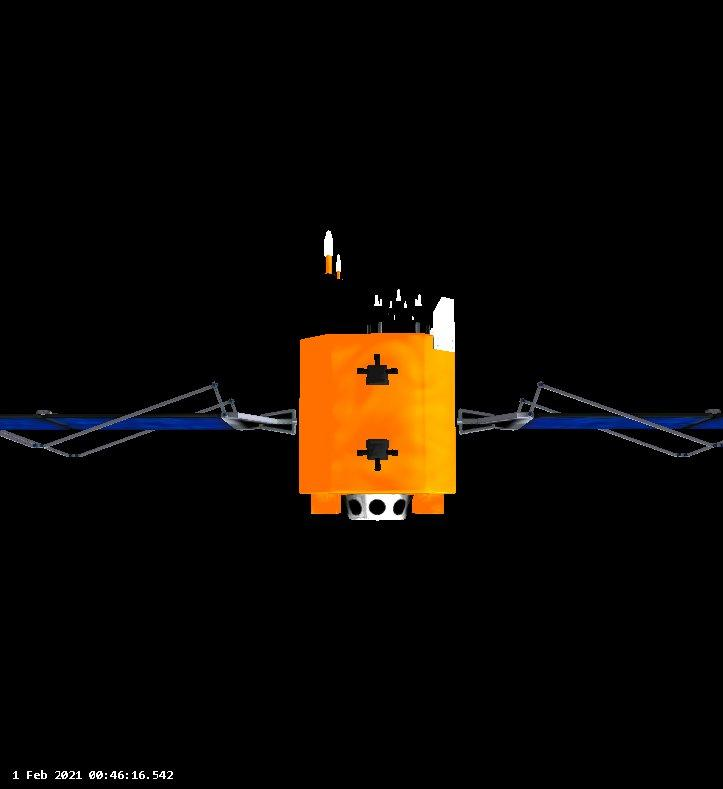antenna: (322, 227, 337, 283), (332, 250, 346, 283)
body: (295, 331, 458, 515)
solar: (0, 406, 244, 438), (510, 407, 723, 437)
thruster: (344, 491, 411, 522), (373, 456, 383, 473), (356, 365, 370, 376), (356, 448, 371, 458), (385, 448, 400, 458), (373, 351, 382, 367), (384, 368, 399, 375)
